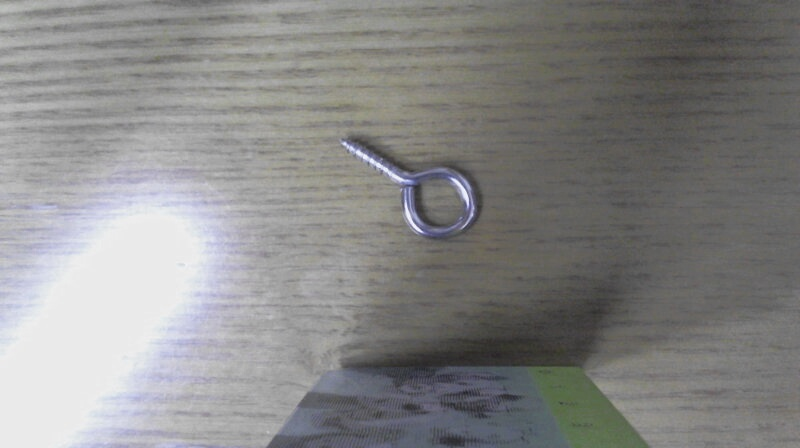O001: (336, 133, 483, 241)
